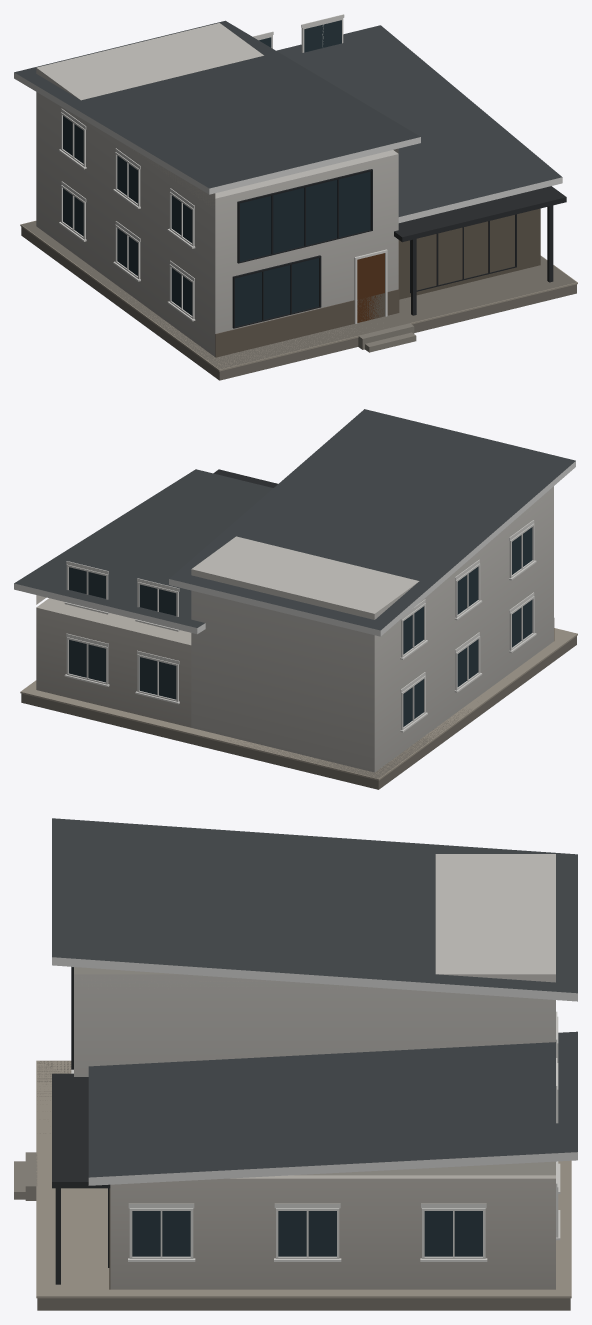
Rendered from ns_dup3_lod1.glb.
3 views of the same model, one above another, from view 1: azimuth 30°, elevation 25°; view 2: azimuth 150°, elevation 25°; view 3: azimuth 270°, elevation 25° (orthographic). The views are drawn at different scales.
Parts seen in each view (by area): view 1: ns_dup3_lod1; view 2: ns_dup3_lod1; view 3: ns_dup3_lod1.
Boxes of the visible parts, bbox=[...] form: ns_dup3_lod1: bbox=[14, 14, 577, 380]; ns_dup3_lod1: bbox=[14, 409, 577, 789]; ns_dup3_lod1: bbox=[14, 818, 577, 1310].
Bounding box in the file's own units: 15.6 × 7.7 × 15.44.
